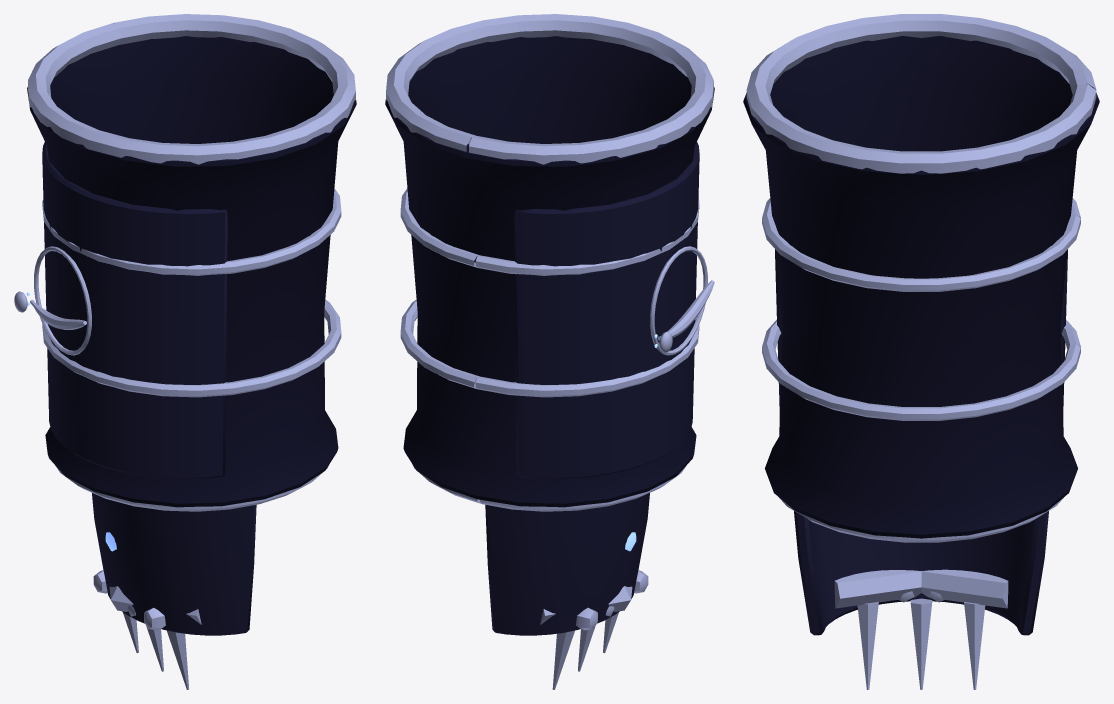
File: asc_starless_stalker_gloves_R.glb
3 renders of one model, left to right at view 1: azimuth 30°, elevation 25°; view 2: azimuth 150°, elevation 25°; view 3: azimuth 270°, elevation 25°, orthographic. The views are drawn at different scales.
Visible parts, largest first — view 1: asc_starless_stalker_gloves, AT_hand_R; view 2: asc_starless_stalker_gloves, AT_hand_R; view 3: asc_starless_stalker_gloves, AT_hand_R.
Part boxes in pixels (x1,y1,x2,y2): asc_starless_stalker_gloves: [14, 14, 356, 511]; AT_hand_R: [92, 493, 256, 689]; asc_starless_stalker_gloves: [385, 14, 714, 511]; AT_hand_R: [485, 493, 649, 689]; asc_starless_stalker_gloves: [743, 14, 1099, 542]; AT_hand_R: [794, 511, 1048, 689].
Size of the model in its own units: 0.2009 by 0.385 by 0.2004.
